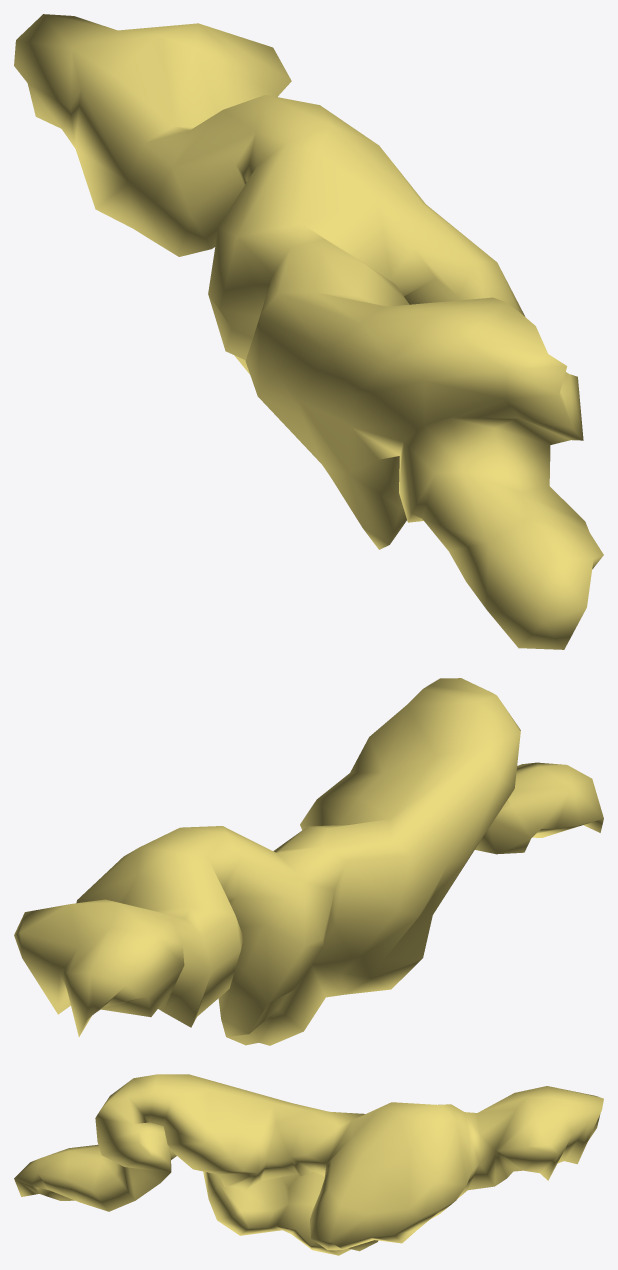
The model's file is circular-sulcus-of-insula-l.glb.
The picture shows the model from 3 angles, top to bottom: view 1: azimuth 30°, elevation 25°; view 2: azimuth 150°, elevation 25°; view 3: azimuth 270°, elevation 25°; orthographic projection. The views are drawn at different scales.
Parts seen in each view (by area): view 1: Circular sulcus of insula.l; view 2: Circular sulcus of insula.l; view 3: Circular sulcus of insula.l.
Boxes of the visible parts, bbox=[...] form: Circular sulcus of insula.l: bbox=[14, 14, 603, 649]; Circular sulcus of insula.l: bbox=[14, 678, 603, 1045]; Circular sulcus of insula.l: bbox=[14, 1074, 603, 1255].
Size of the model in its own units: 0.0198 by 0.0179 by 0.0594.
